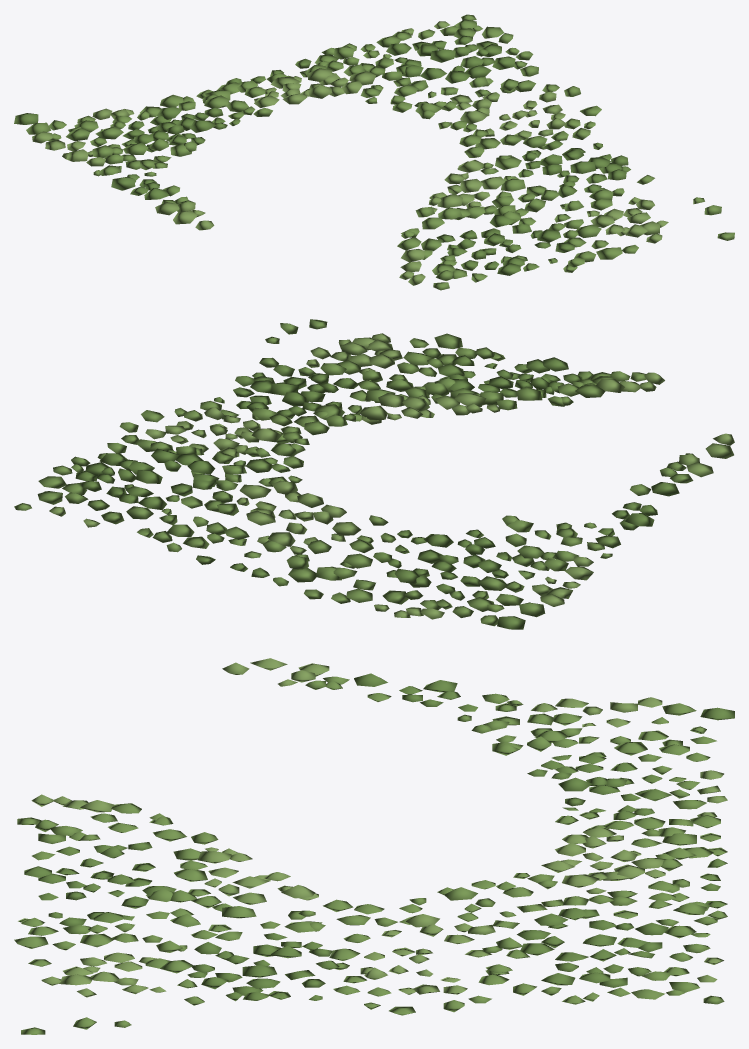
The model's file is canopy-1--1--4.glb.
3 renders of one model, top to bottom at view 1: azimuth 30°, elevation 25°; view 2: azimuth 150°, elevation 25°; view 3: azimuth 270°, elevation 25°, orthographic. The views are drawn at different scales.
Bounding box in the file's own units: 518 × 72.5 × 520.
Materials: 1 (1 with a texture image).
